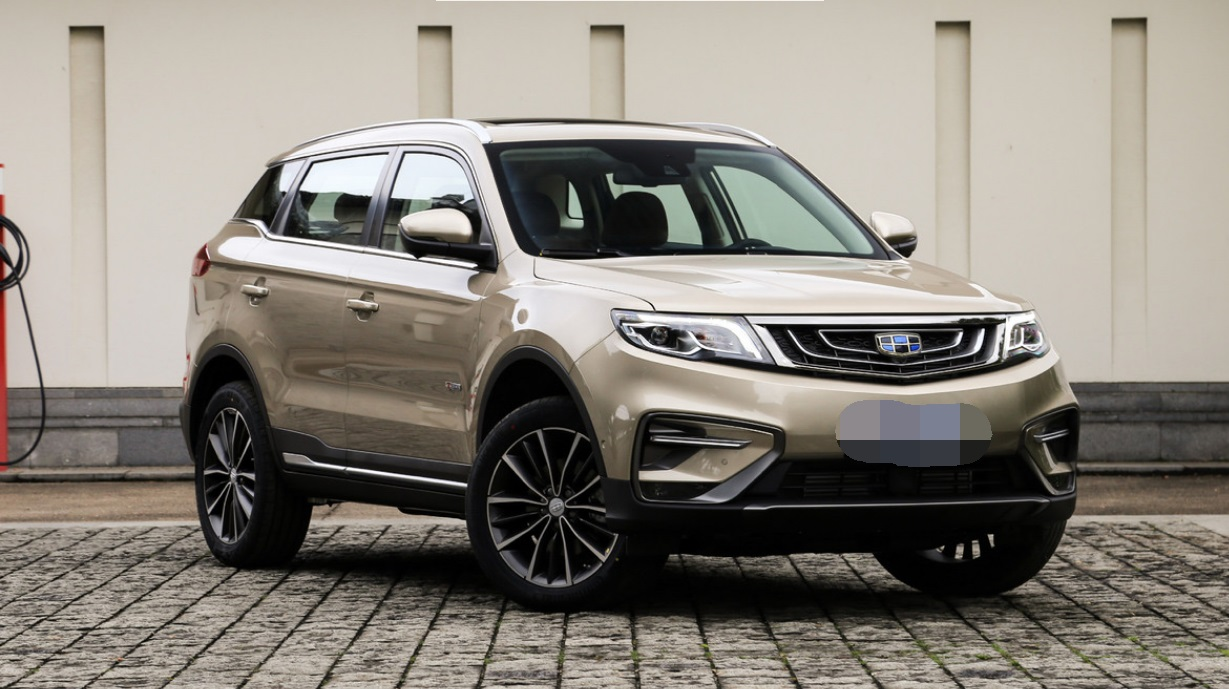SUV: (180, 112, 1084, 609)
